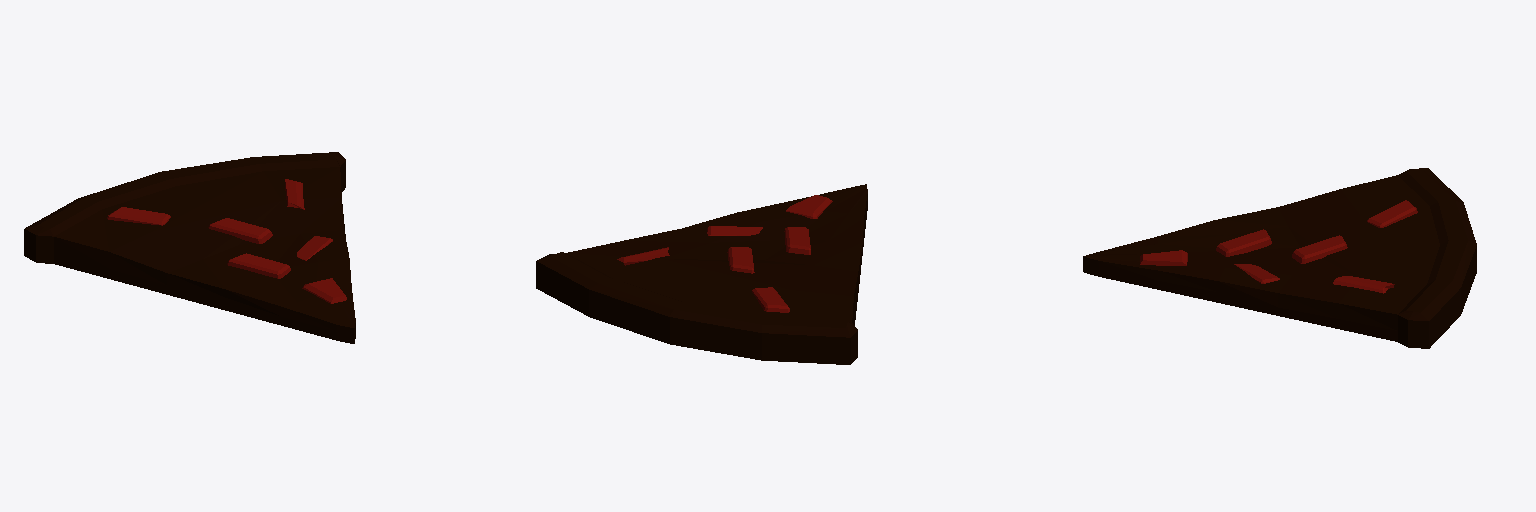
Rendered from BrownSlice.obj.
The picture shows the model from 3 angles: view 1: azimuth 30°, elevation 25°; view 2: azimuth 150°, elevation 25°; view 3: azimuth 270°, elevation 25°; orthographic projection.
Visible parts, largest first — view 1: Pizza_Slice_Cube.003; view 2: Pizza_Slice_Cube.003; view 3: Pizza_Slice_Cube.003.
Part boxes in pixels (x1,y1,x2,y2): Pizza_Slice_Cube.003: (24,152,355,343); Pizza_Slice_Cube.003: (536,184,867,364); Pizza_Slice_Cube.003: (1083,168,1476,348).
Size of the model in its own units: 1.07 by 0.1066 by 1.16.